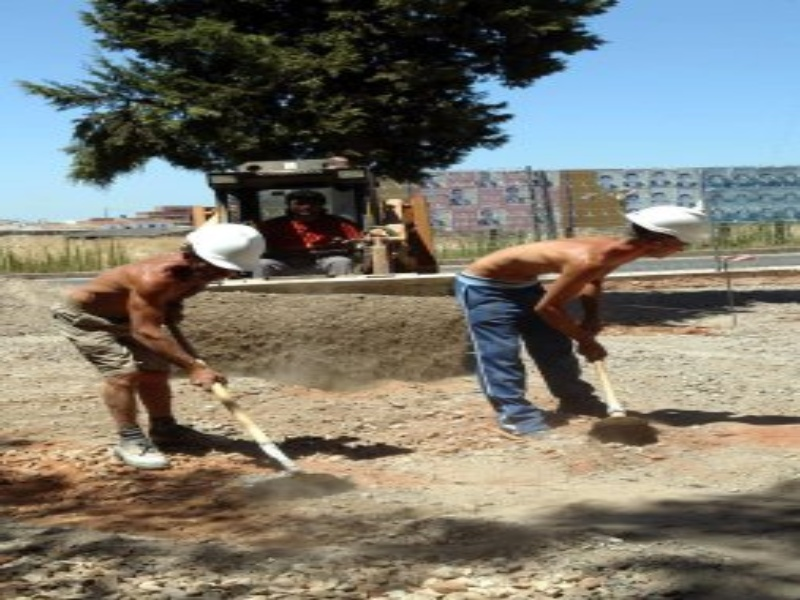casco: (183, 218, 267, 279), (621, 204, 716, 250)
